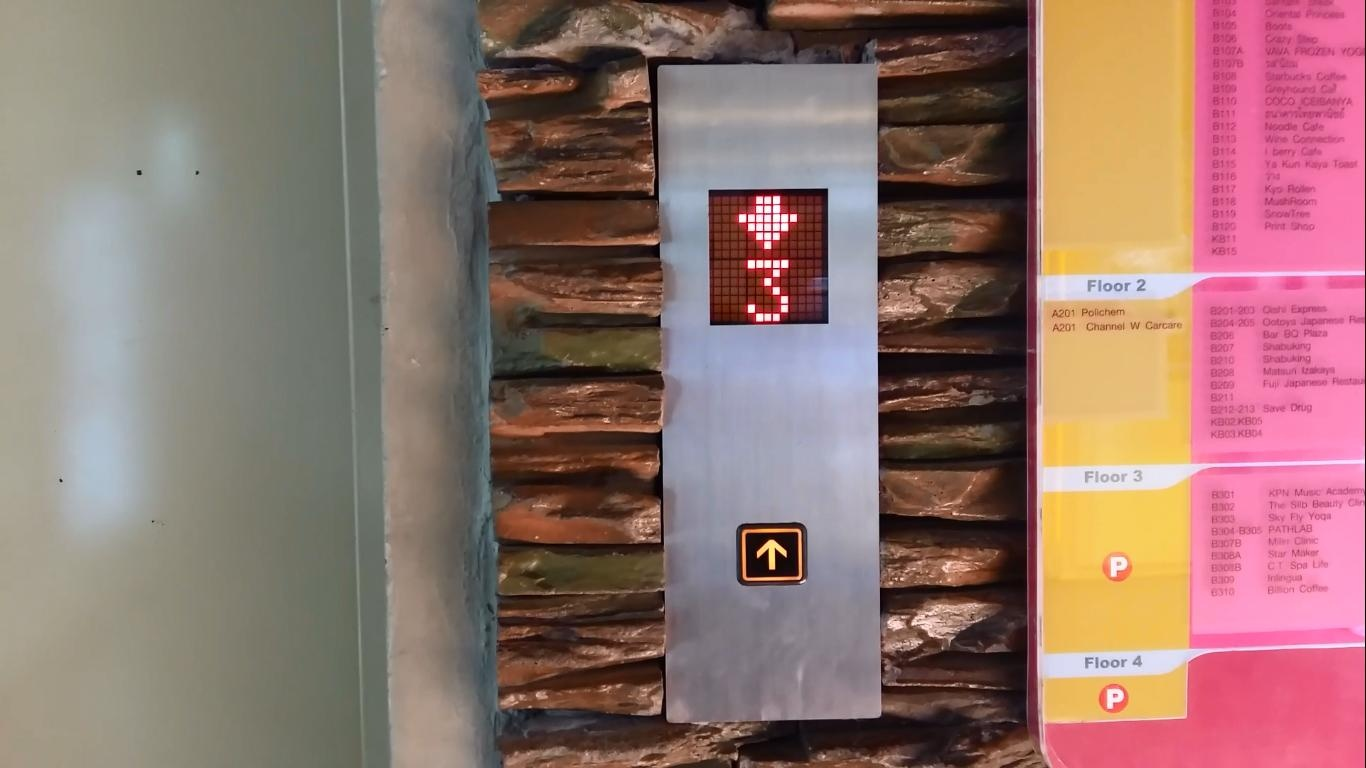led: (707, 188, 830, 327)
up: (737, 522, 808, 584)
